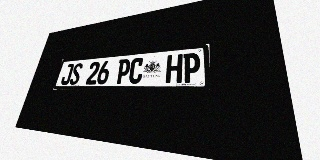2: (85, 61, 101, 84)
6: (96, 60, 111, 84)
C: (128, 57, 144, 84)
H: (165, 54, 183, 83)
J: (60, 64, 74, 85)
P: (182, 52, 200, 83), (115, 59, 131, 84)
S: (69, 63, 83, 85)
